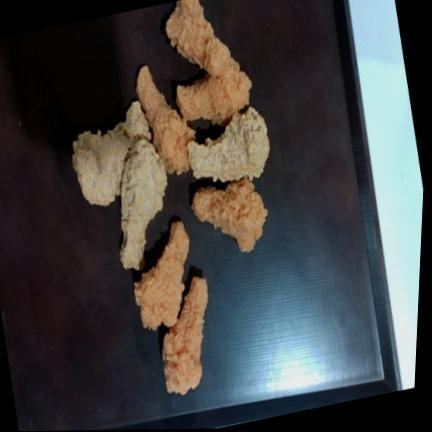chicken: (73, 101, 151, 205), (136, 66, 195, 174), (120, 139, 167, 270), (188, 107, 270, 182), (135, 222, 189, 330), (192, 178, 268, 252), (166, 0, 239, 75), (162, 276, 208, 394), (176, 67, 252, 126)
